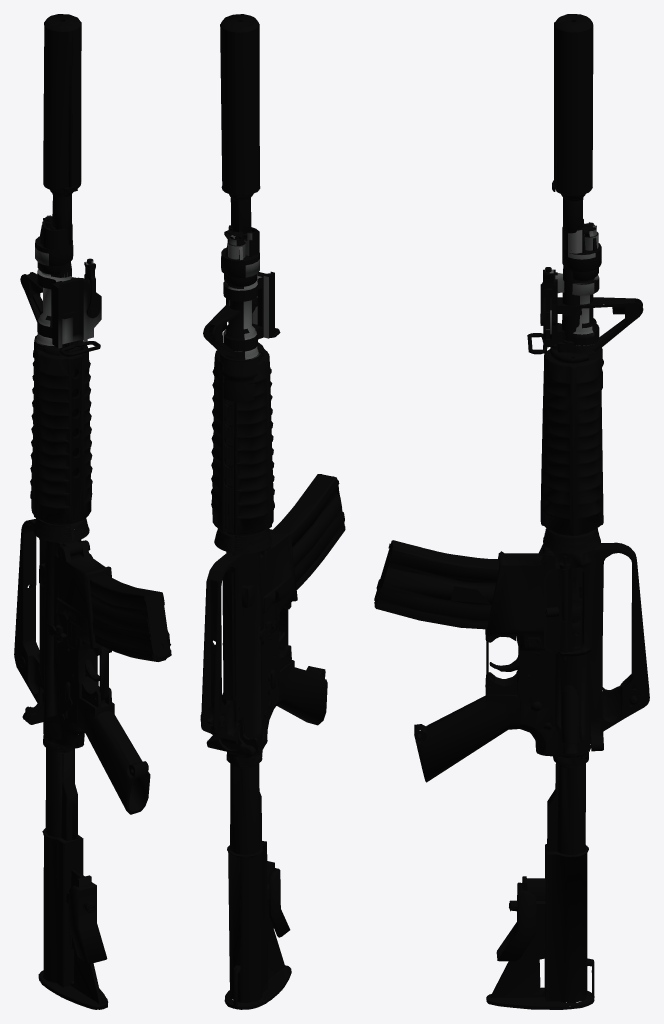
File: M4A1S__Light_Weapon.fbx
3 renders of one model, left to right at view 1: azimuth 30°, elevation 25°; view 2: azimuth 150°, elevation 25°; view 3: azimuth 270°, elevation 25°, orthographic. The views are drawn at different scales.
Parts seen in each view (by area): view 1: asset_M4A1S.001; view 2: asset_M4A1S.001; view 3: asset_M4A1S.001.
Part boxes in pixels (x1,y1,x2,y2): asset_M4A1S.001: (14,14,171,1009); asset_M4A1S.001: (200,14,345,1009); asset_M4A1S.001: (374,14,649,1009).
Size of the model in its own units: 0.029 by 0.444 by 0.113.
